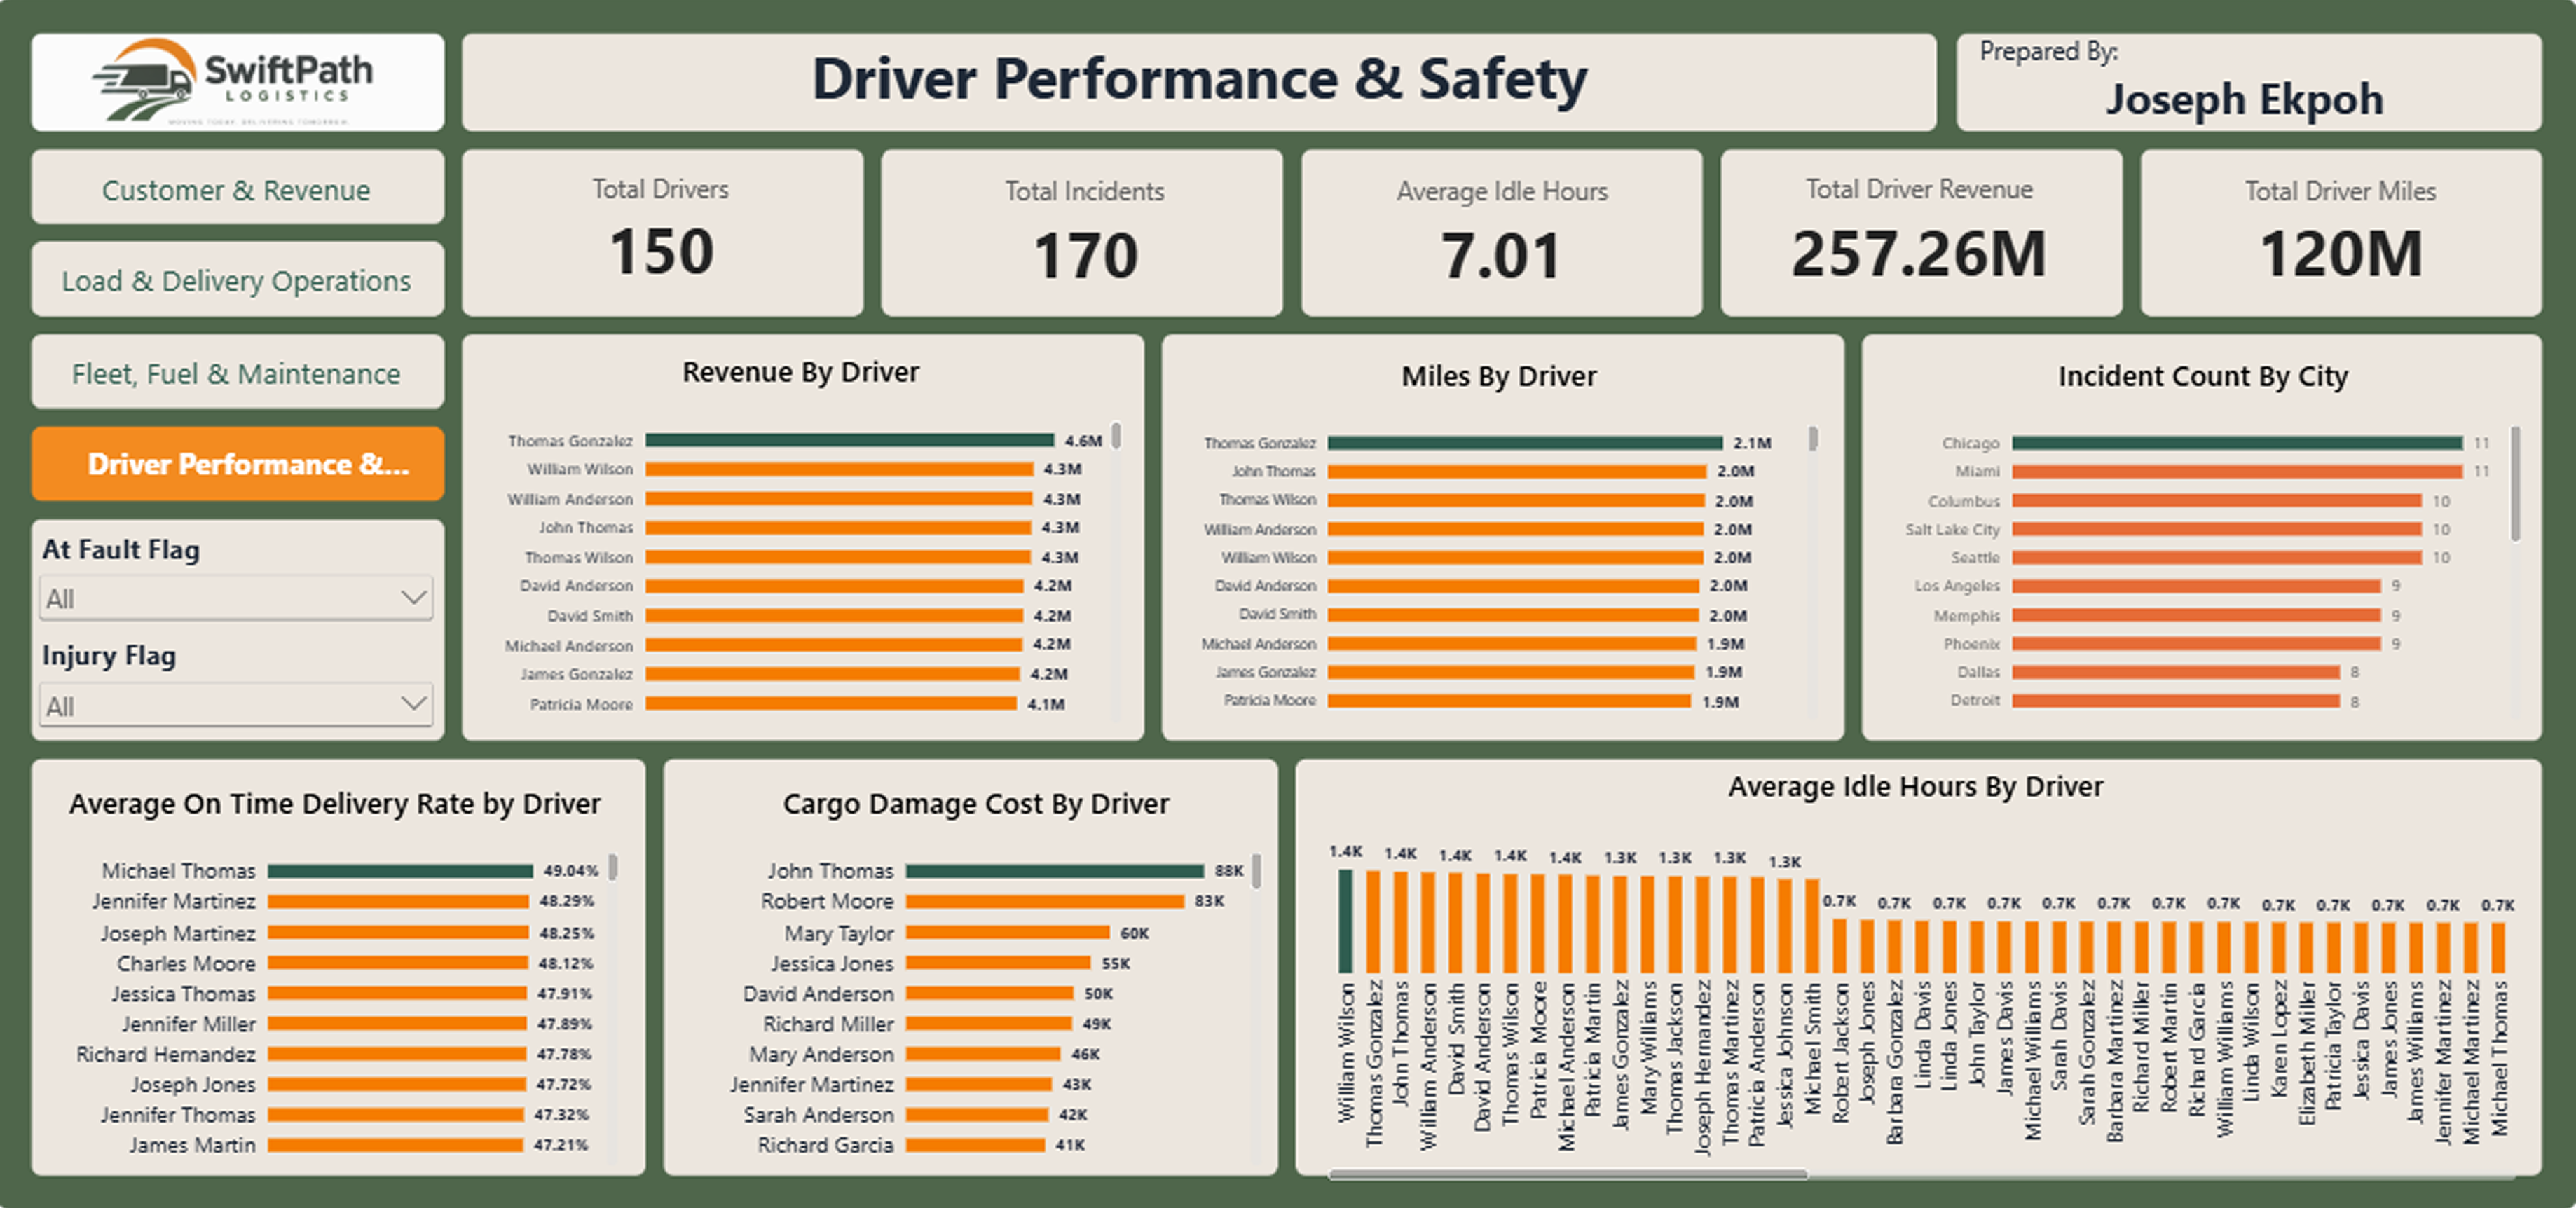

The dashboard page shown, as its layout file describes it:
{"tool":"powerbi","page":{"name":"Driver Performance & Safety","canvas":[1920,1080],"ordinal":4},"visuals":[{"type":"clusteredBarChart","title":"Revenue By Driver","fields":{"Category":["drivers.full_name"],"Y":["driver_monthly_metrics.Total Driver Revenue"]},"box":[345.2,331.6,508.8,306.6],"z":0},{"type":"clusteredBarChart","title":"Miles By Driver","fields":{"Category":["drivers.full_name"],"Y":["driver_monthly_metrics.Total Driver Miles"]},"box":[865.4,333.9,506.5,302.1],"z":1000},{"type":"columnChart","title":"Average Idle Hours By Driver","fields":{"Category":["drivers.full_name"],"Y":["Sum(driver_monthly_metrics.trips_completed)"]},"box":[965.3,640.5,924.4,338.4],"z":2000},{"type":"cardVisual","fields":{"Data":["drivers.Total Drivers"]},"box":[345.2,197.6,300,120.4],"z":3000},{"type":"cardVisual","fields":{"Data":["safety_incidents.Total Incidents"]},"box":[658.7,197.6,300,125],"z":4000},{"type":"cardVisual","fields":{"Data":["driver_monthly_metrics.Average Idle Hours"]},"box":[970,197,300,125],"z":5000},{"type":"cardVisual","fields":{"Data":["driver_monthly_metrics.Total Driver Revenue"]},"box":[1281,197.6,299,123],"z":6000},{"type":"cardVisual","fields":{"Data":["driver_monthly_metrics.Total Driver Miles"]},"box":[1594,194,299.8,129],"z":7000},{"type":"clusteredBarChart","title":"Incident Count By City","fields":{"Category":["safety_incidents.location_city"],"Y":["CountNonNull(safety_incidents.incident_type)"]},"box":[1390,333.9,504.2,302.1],"z":8000},{"type":"slicer","title":"Customer Type","fields":{"Values":["safety_incidents.at_fault_flag"]},"box":[27.3,479.2,304.4,77.2],"z":9000},{"type":"actionButton","box":[27,197.6,305,57],"z":10000},{"type":"actionButton","box":[27.3,265.7,305,57],"z":11000},{"type":"actionButton","box":[27.3,333.9,305,57],"z":12000},{"type":"actionButton","box":[27.3,402,304.4,56.8],"z":13000},{"type":"textbox","box":[345,114,1101,65],"z":14000},{"type":"textbox","box":[1455,111,436,86],"z":15000},{"type":"clusteredBarChart","title":"Average On Time Delivery Rate by Driver","fields":{"Category":["drivers.full_name"],"Y":["driver_monthly_metrics.Average On Time Delivery Rate"]},"box":[27.3,651.9,452,315.7],"z":16000},{"type":"clusteredBarChart","title":"Cargo Damage Cost By Driver ","fields":{"Category":["drivers.full_name"],"Y":["safety_incidents.Total Cargo Damage Cost"]},"box":[502,651.9,456.5,315.7],"z":17000},{"type":"slicer","title":"Customer Type","fields":{"Values":["safety_incidents.injury_flag"]},"box":[27.3,558.7,304.4,77.2],"z":18000}]}

Visuals, with their boxes on the page's 1920x1080 design canvas (x1, y1, x2, y2). These are canvas units, not pixel positions in the 2576x1208 screenshot, which may show the page scaled, cropped or inside an application window:
"Revenue By Driver" clusteredBarChart: <box>345,332,854,638</box>
"Miles By Driver" clusteredBarChart: <box>865,334,1372,636</box>
"Average Idle Hours By Driver" columnChart: <box>965,640,1890,979</box>
cardVisual - drivers.Total Drivers: <box>345,198,645,318</box>
cardVisual - safety_incidents.Total Incidents: <box>659,198,959,323</box>
cardVisual - driver_monthly_metrics.Average Idle Hours: <box>970,197,1270,322</box>
cardVisual - driver_monthly_metrics.Total Driver Revenue: <box>1281,198,1580,321</box>
cardVisual - driver_monthly_metrics.Total Driver Miles: <box>1594,194,1894,323</box>
"Incident Count By City" clusteredBarChart: <box>1390,334,1894,636</box>
"Customer Type" slicer: <box>27,479,332,556</box>
actionButton: <box>27,198,332,255</box>
actionButton: <box>27,266,332,323</box>
actionButton: <box>27,334,332,391</box>
actionButton: <box>27,402,332,459</box>
textbox: <box>345,114,1446,179</box>
textbox: <box>1455,111,1891,197</box>
"Average On Time Delivery Rate by Driver" clusteredBarChart: <box>27,652,479,968</box>
"Cargo Damage Cost By Driver " clusteredBarChart: <box>502,652,958,968</box>
"Customer Type" slicer: <box>27,559,332,636</box>
